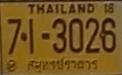0: (68, 17, 83, 52)
1: (28, 18, 34, 54)
2: (85, 18, 99, 52)
3: (52, 18, 66, 52)
6: (100, 17, 115, 51)
7: (7, 18, 21, 54)
SPK: (24, 56, 101, 73)
